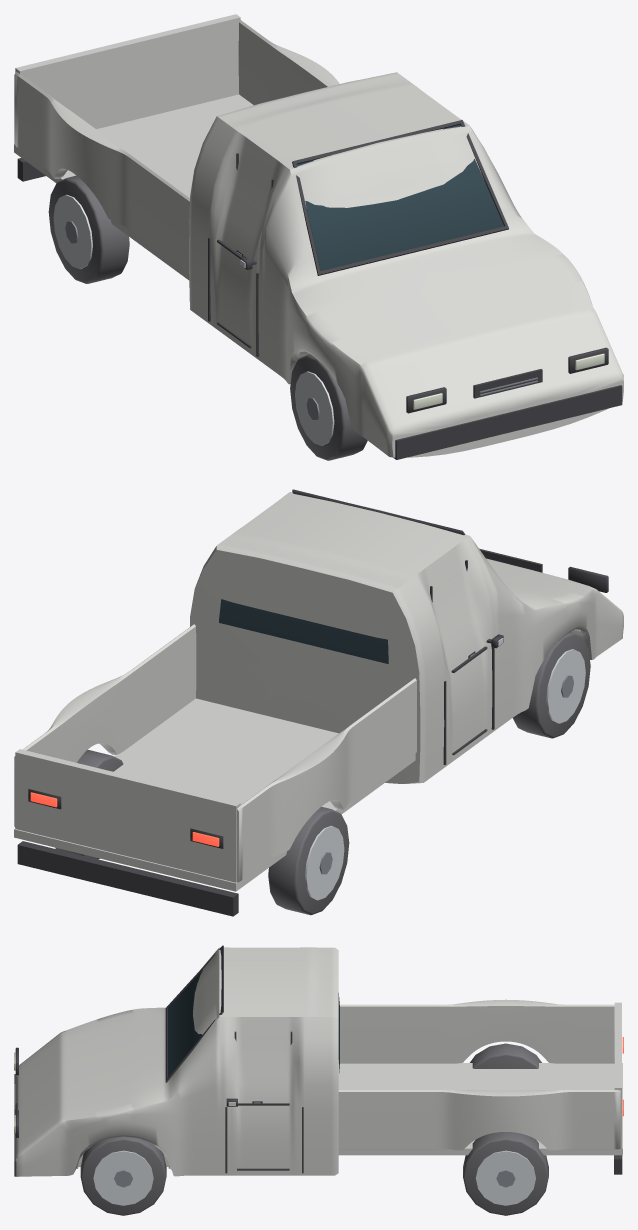
The model's file is Pickup_FullSize_26.fbx.
3 views of the same model, one above another, from view 1: azimuth 30°, elevation 25°; view 2: azimuth 150°, elevation 25°; view 3: azimuth 270°, elevation 25° (orthographic). The views are drawn at different scales.
Visible parts, largest first — view 1: LOD0; view 2: LOD0; view 3: LOD0.
Boxes of the visible parts, box(x1,y1,x2,y2) form: LOD0: box(14, 14, 623, 460); LOD0: box(14, 489, 623, 916); LOD0: box(14, 945, 623, 1215).
Size of what is drawn, in the model's own units: 200 by 176 by 511.
